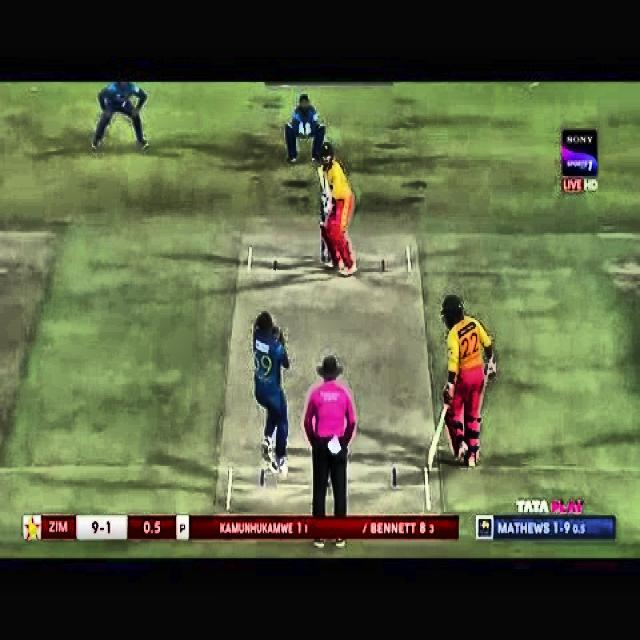Left-stump: (322, 233, 325, 264)
Middle-stump: (328, 250, 332, 264)
